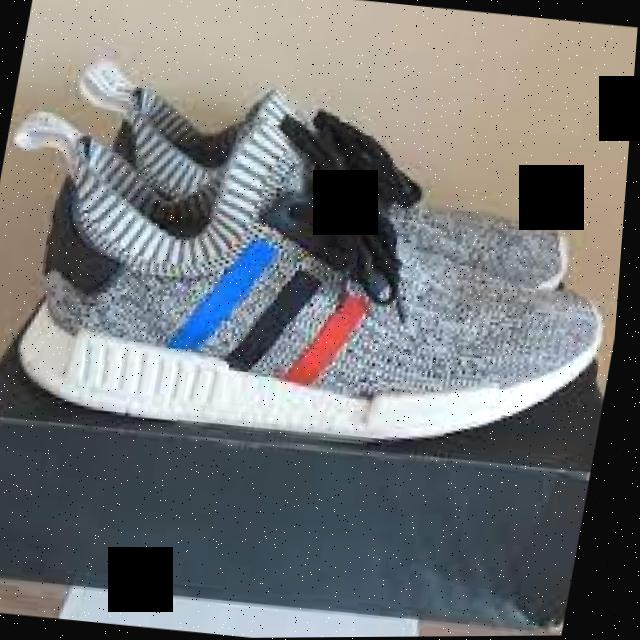shoe: (0, 98, 634, 471)
